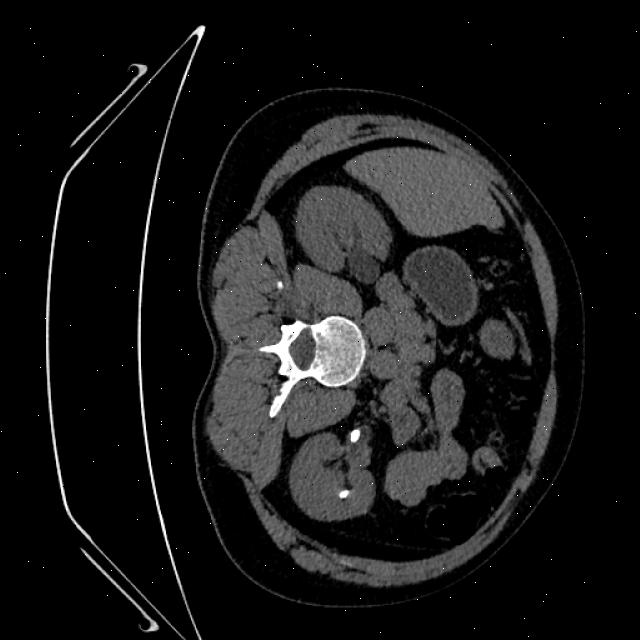kidneystone: (346, 428, 368, 445), (338, 494, 345, 502)
